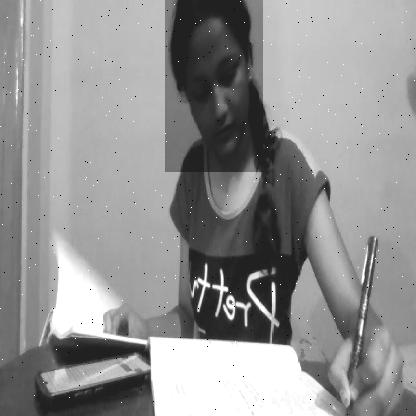Normal: (165, 0, 263, 172)
